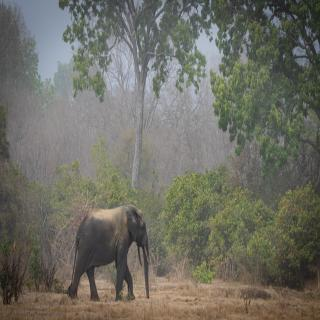Elephant: (68, 200, 154, 308)
